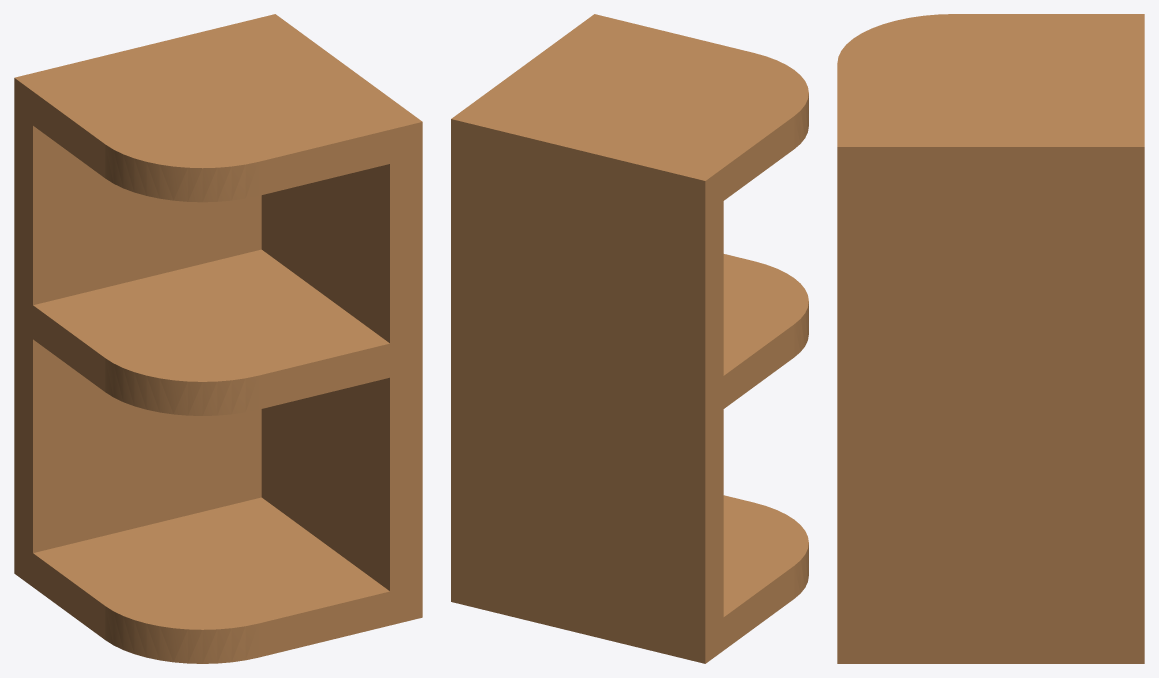
The model's file is kitKitchenCabinetUpperCorner.glb.
3 views of the same model, side by side, from view 1: azimuth 30°, elevation 25°; view 2: azimuth 150°, elevation 25°; view 3: azimuth 270°, elevation 25° (orthographic). The views are drawn at different scales.
Parts seen in each view (by area): view 1: kitKitchenCabinetUpperCorner_wood; view 2: kitKitchenCabinetUpperCorner_wood; view 3: kitKitchenCabinetUpperCorner_wood.
Boxes of the visible parts, <box> form: kitKitchenCabinetUpperCorner_wood: <box>14,14,422,663</box>; kitKitchenCabinetUpperCorner_wood: <box>451,14,808,663</box>; kitKitchenCabinetUpperCorner_wood: <box>837,14,1144,663</box>.
Bounding box in the file's own units: 0.43 × 0.78 × 0.42.
